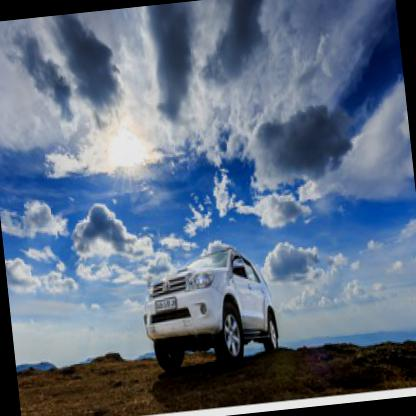car: (137, 243, 280, 370)
